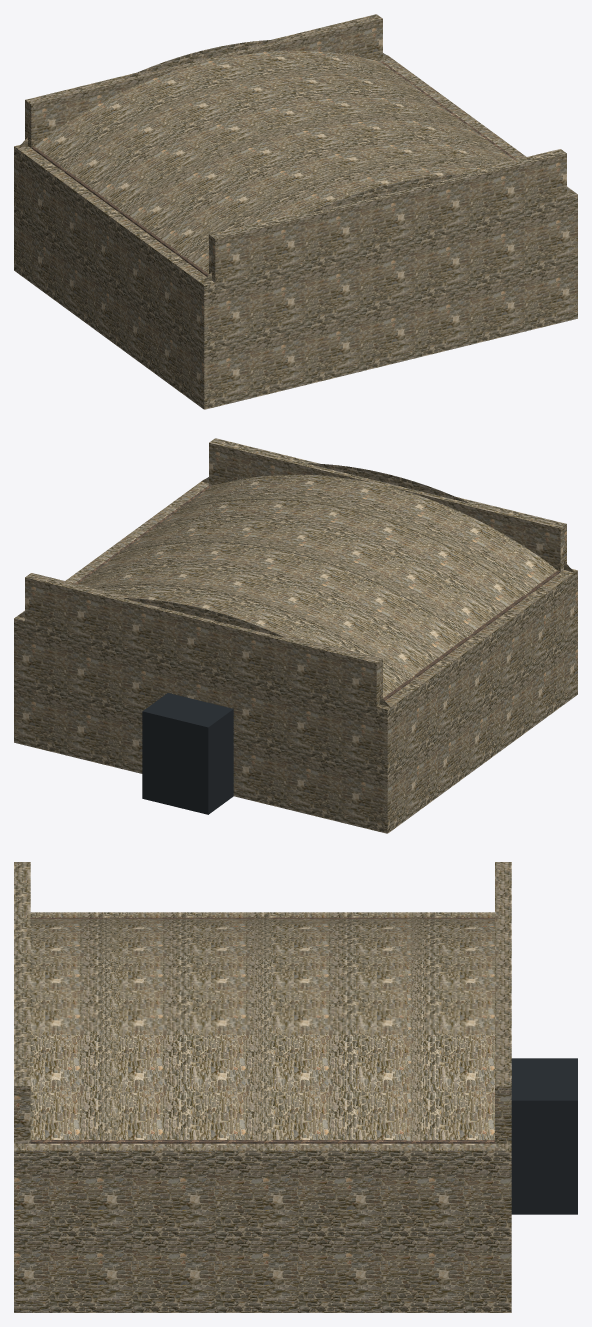
The model's file is stonehall.glb.
3 renders of one model, top to bottom at view 1: azimuth 30°, elevation 25°; view 2: azimuth 150°, elevation 25°; view 3: azimuth 270°, elevation 25°, orthographic. The views are drawn at different scales.
Parts seen in each view (by area): view 1: Static_HallWall, Static_HallFloor; view 2: Static_HallWall, Corridor, Static_HallFloor; view 3: Static_HallWall, Corridor, Static_HallFloor.
Boxes of the visible parts, x1,y1,x2,y2 form: Static_HallWall: (14, 14, 577, 409); Static_HallFloor: (31, 61, 516, 276); Static_HallWall: (14, 438, 577, 833); Corridor: (142, 693, 233, 814); Static_HallFloor: (75, 485, 560, 700); Static_HallWall: (14, 862, 511, 1312); Corridor: (511, 1058, 577, 1214); Static_HallFloor: (30, 917, 494, 1143).
Size of the model in its own units: 17 by 7.9 by 17.
Materials: 19 (3 with a texture image).
